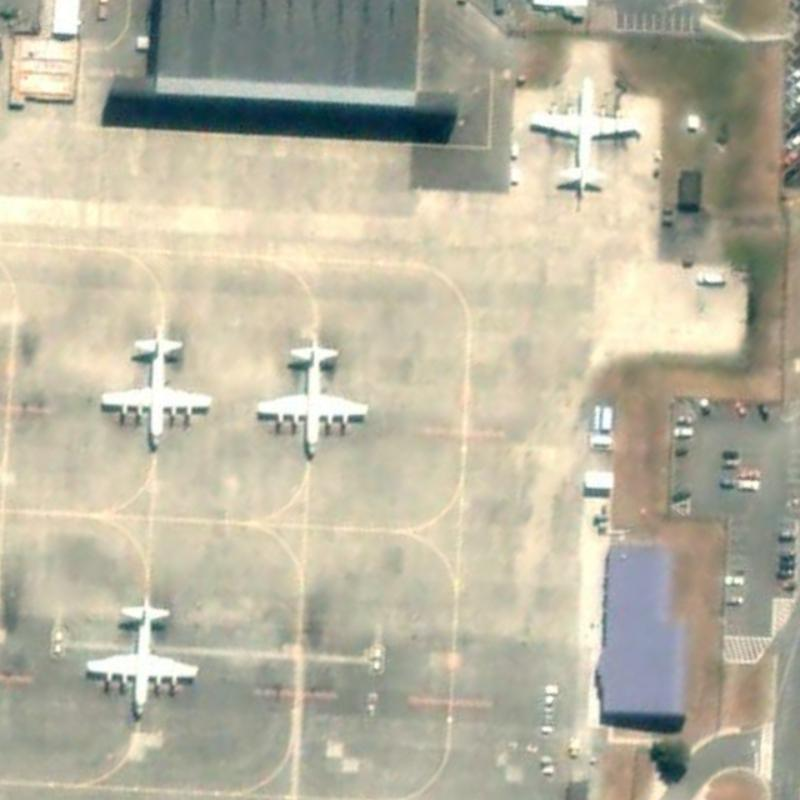A9: (78, 584, 206, 727), (250, 322, 376, 460), (93, 321, 219, 458), (520, 67, 643, 203)
